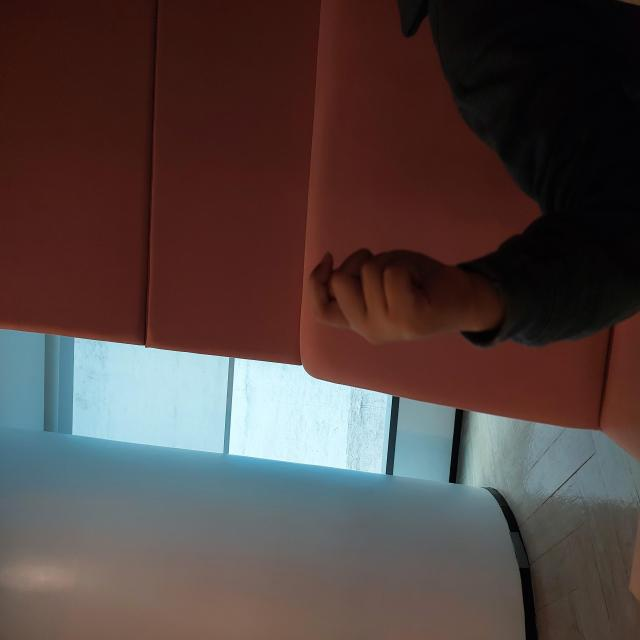T: (291, 300, 403, 481)
